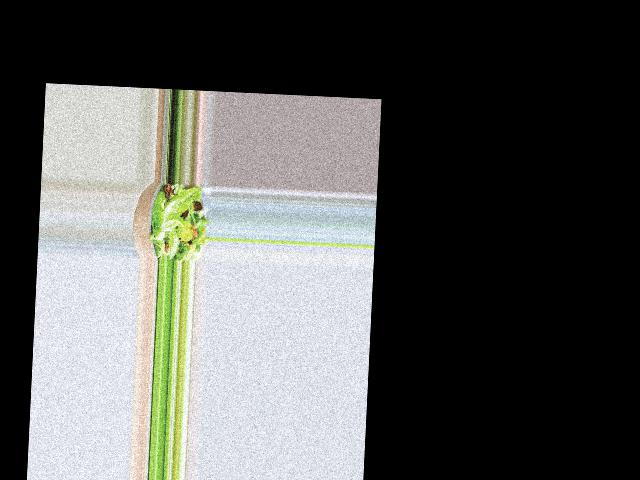lettuce: (149, 189, 207, 258)
